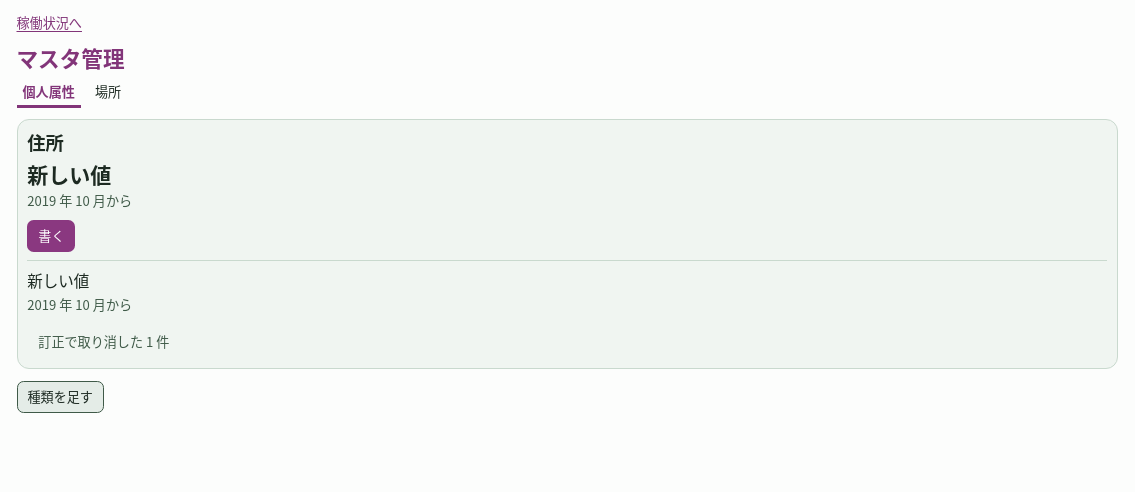
Test case: 個人属性の画面 › 取り消された主張は「訂正で取り消した 1 件」に畳まれ、押すと出る
Expected: the text "取り消された値" is not shown
Click the button "訂正で取り消した 1 件". click: {"x": 104, "y": 342}
box: [27,326,180,358]
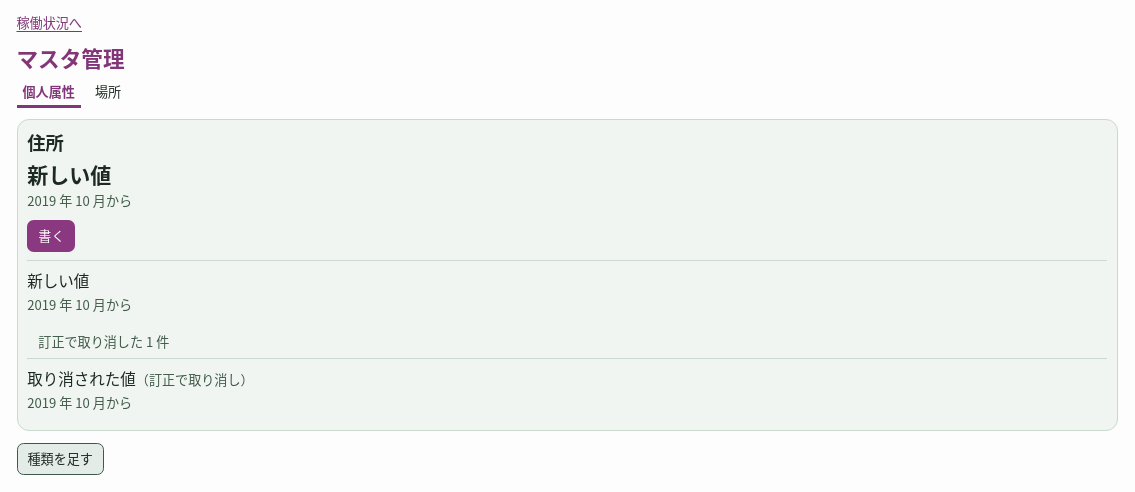
Now the element with test id "superseded" shows "取り消された値", box [27,358,1107,420]
